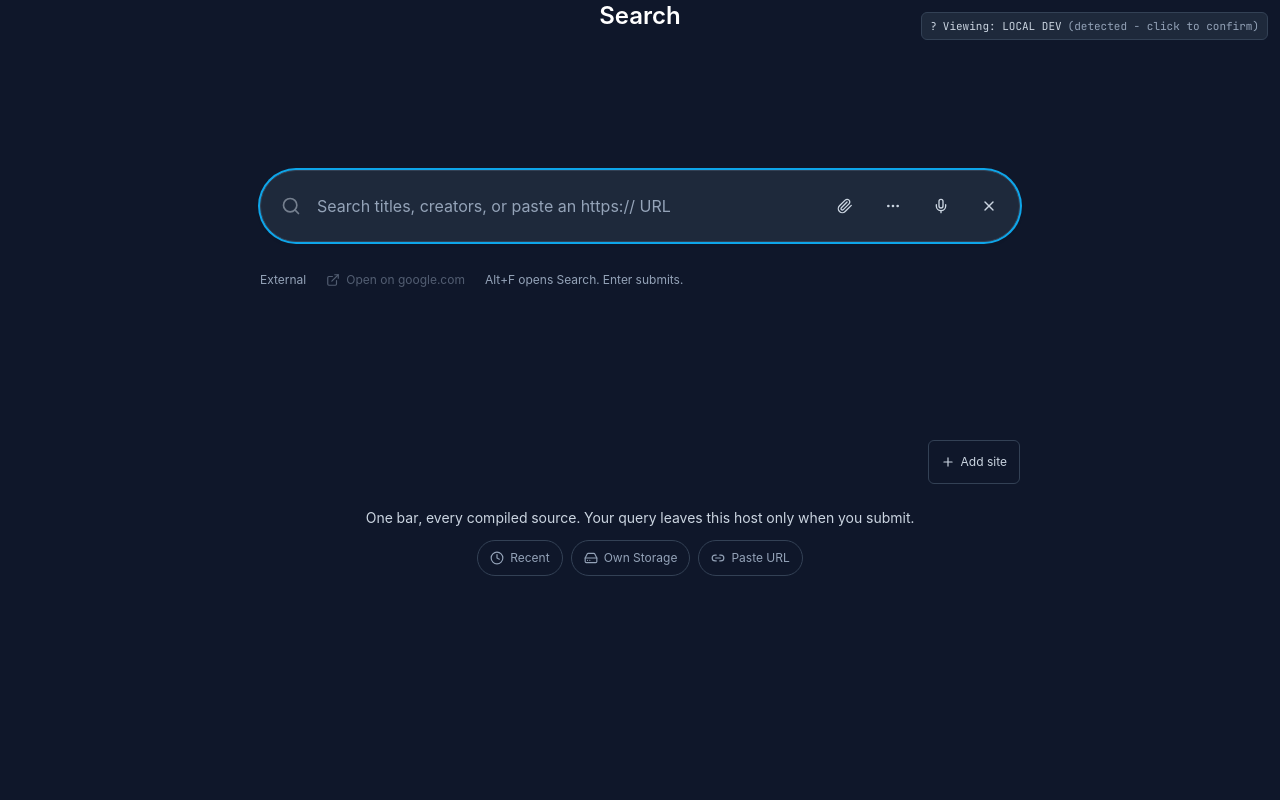
Scenario: F56-c v2 URL import + own credentials › validates both fields, then encrypts and POSTs to /api/fetch and wipes password
Type "https://example.org/dataset.zip" into the search field with test id "search-query" at point(568, 206), box [317,194,819,218]
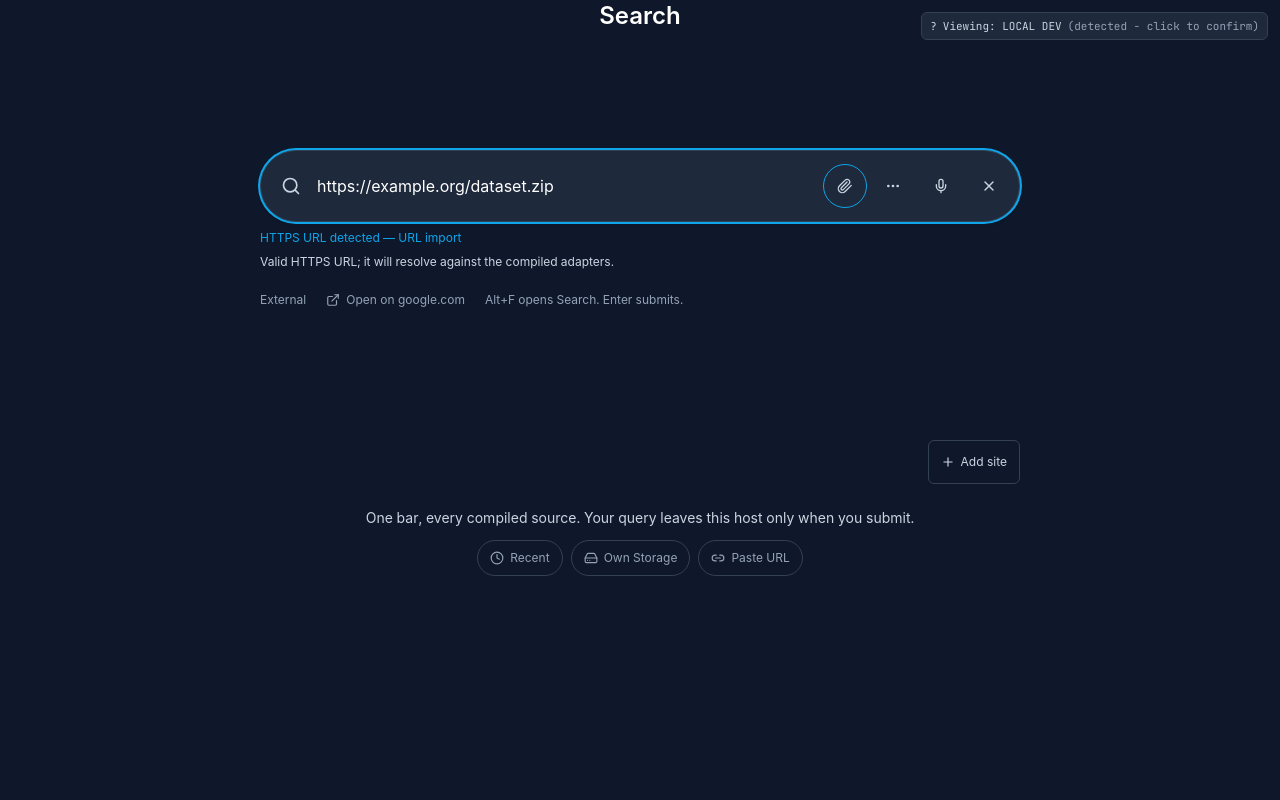
Click the button with test id "search-submit" at point(291, 186), box [269,164,313,208]
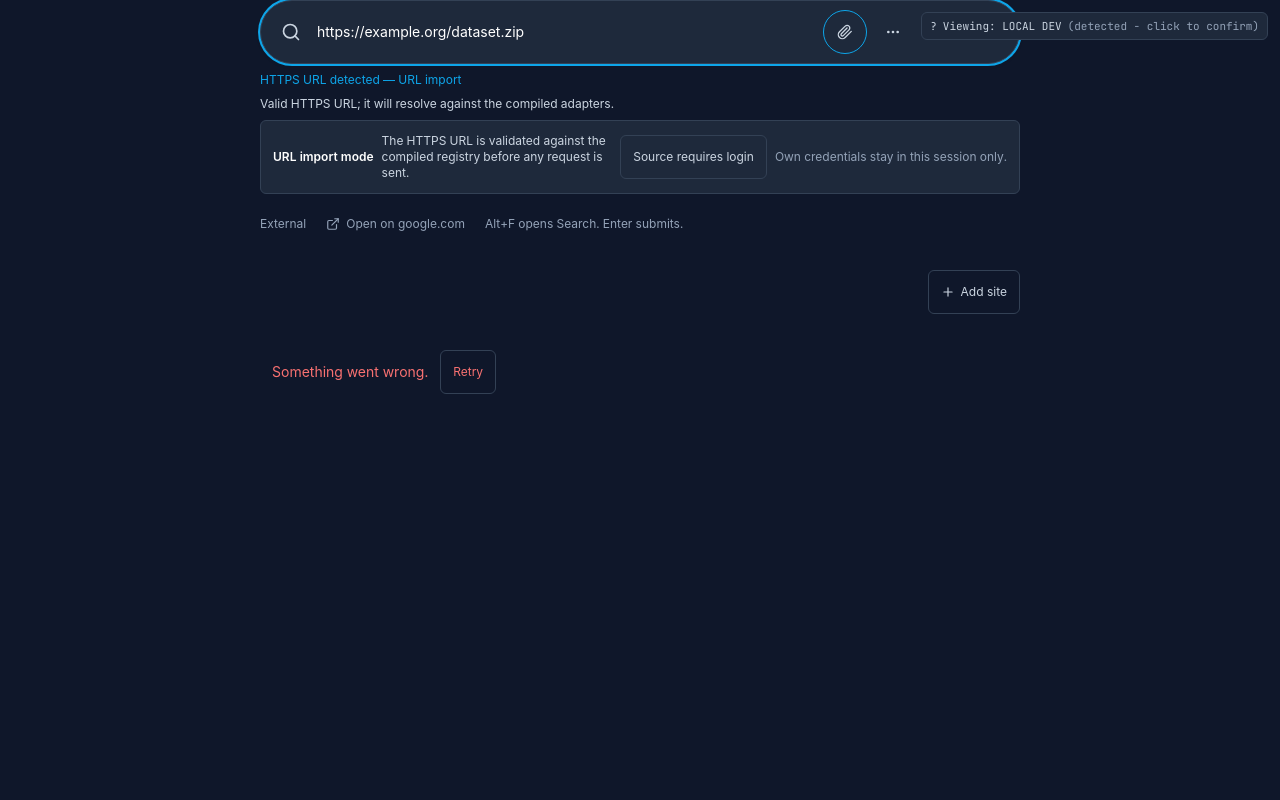
Click the button with test id "import-own-credential" at point(694, 157), box [620,135,767,179]
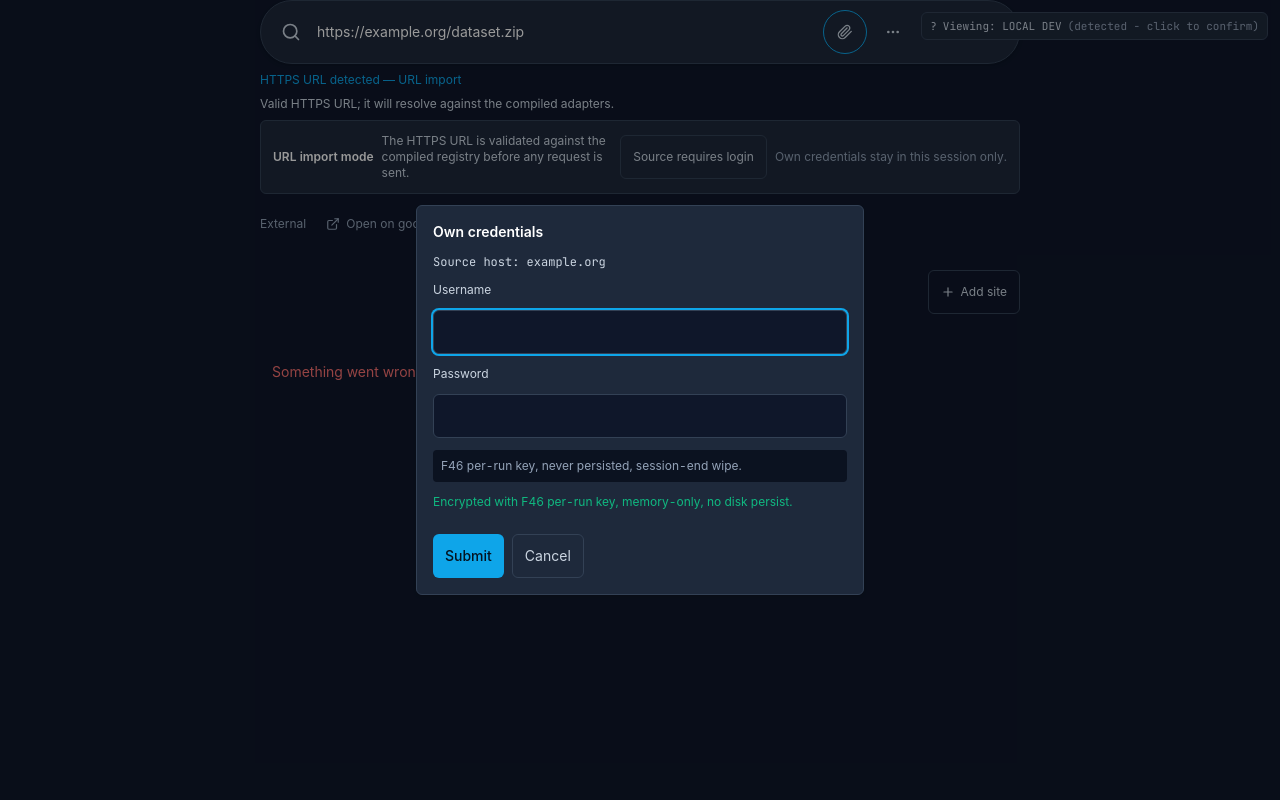
Click the button with test id "cred-submit" at point(468, 556), box [433,534,504,578]
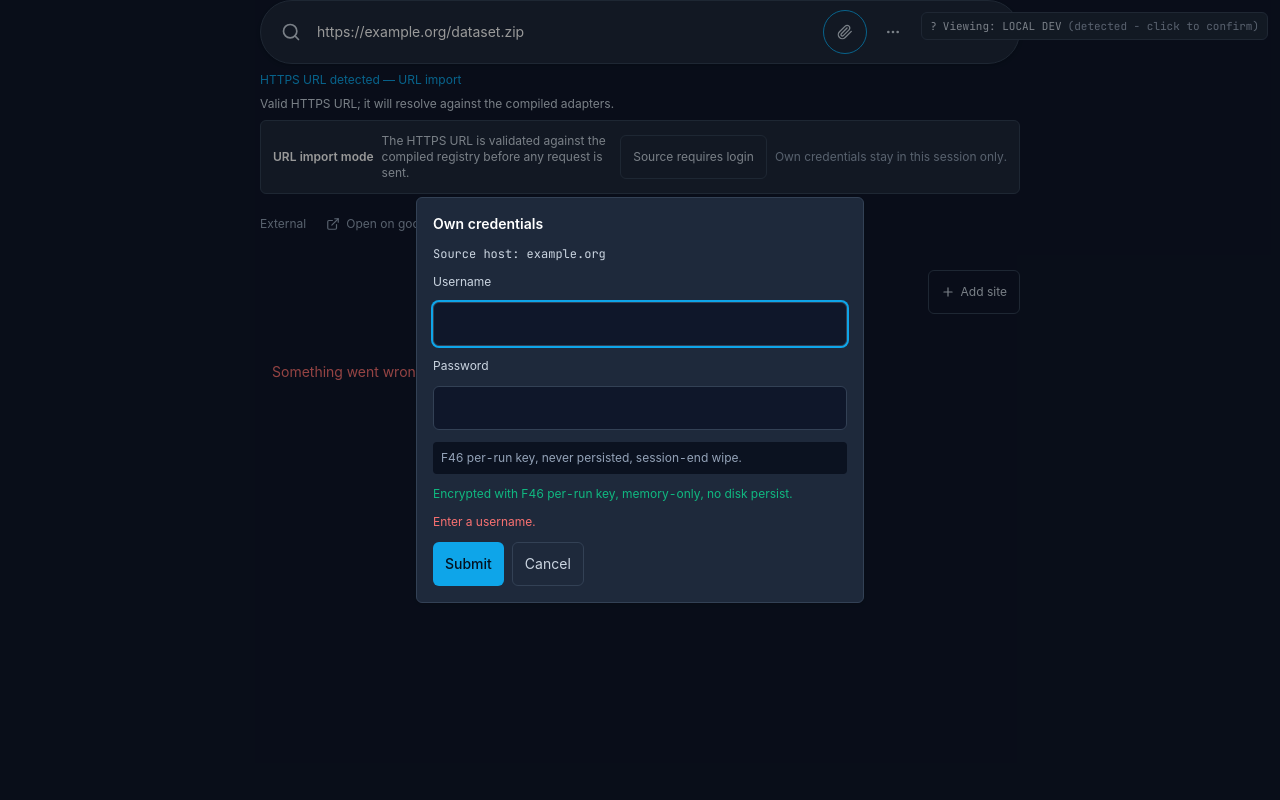
Expected: the message with test id "cred-error" reads "Enter a username.", [433,514,536,529]
Type "operator" into the field with test id "cred-user" at point(640, 324), box [433,302,847,346]
Click the button with test id "cred-submit" at point(468, 564), box [433,542,504,586]
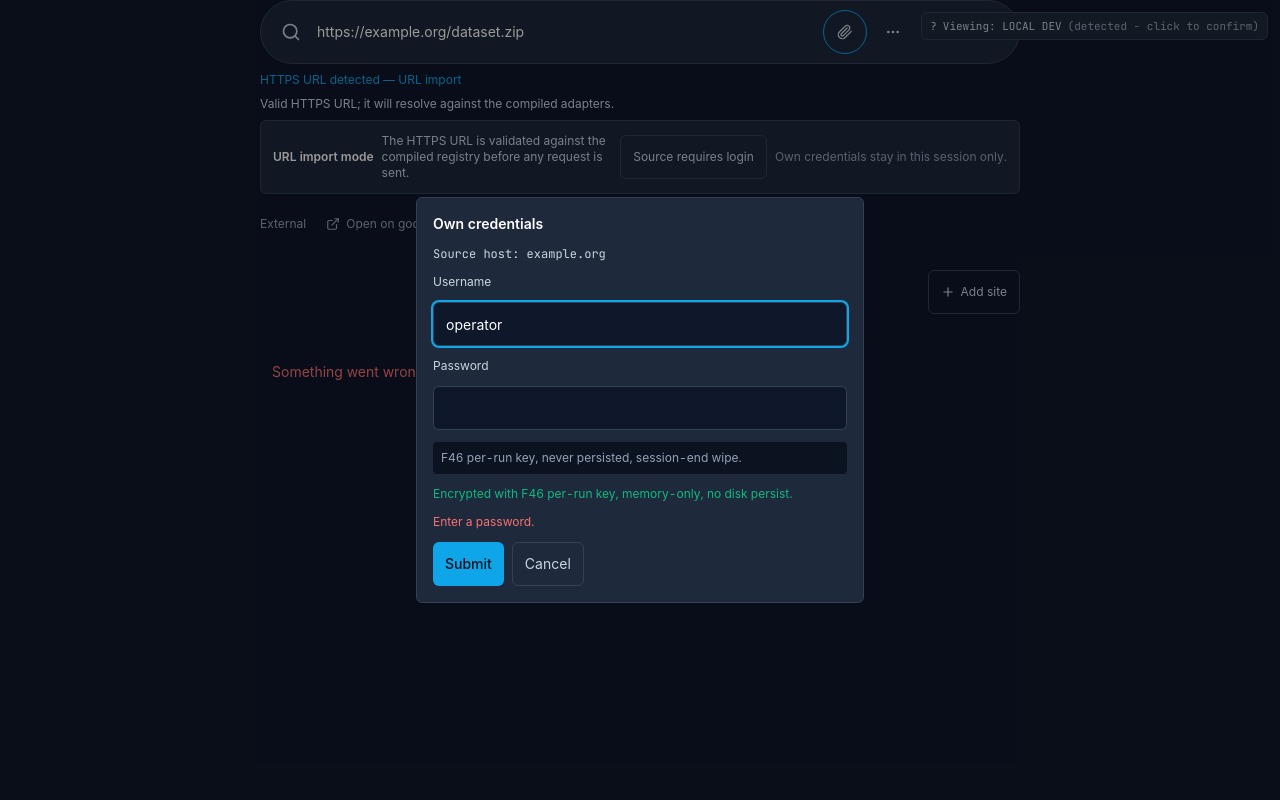
Expected: the message with test id "cred-error" reads "Enter a password.", [433,514,534,529]
Type "hunter2" into the password field with test id "cred-password" at point(640, 408), box [433,386,847,430]
Click the button with test id "cred-submit" at point(468, 564), box [433,542,504,586]
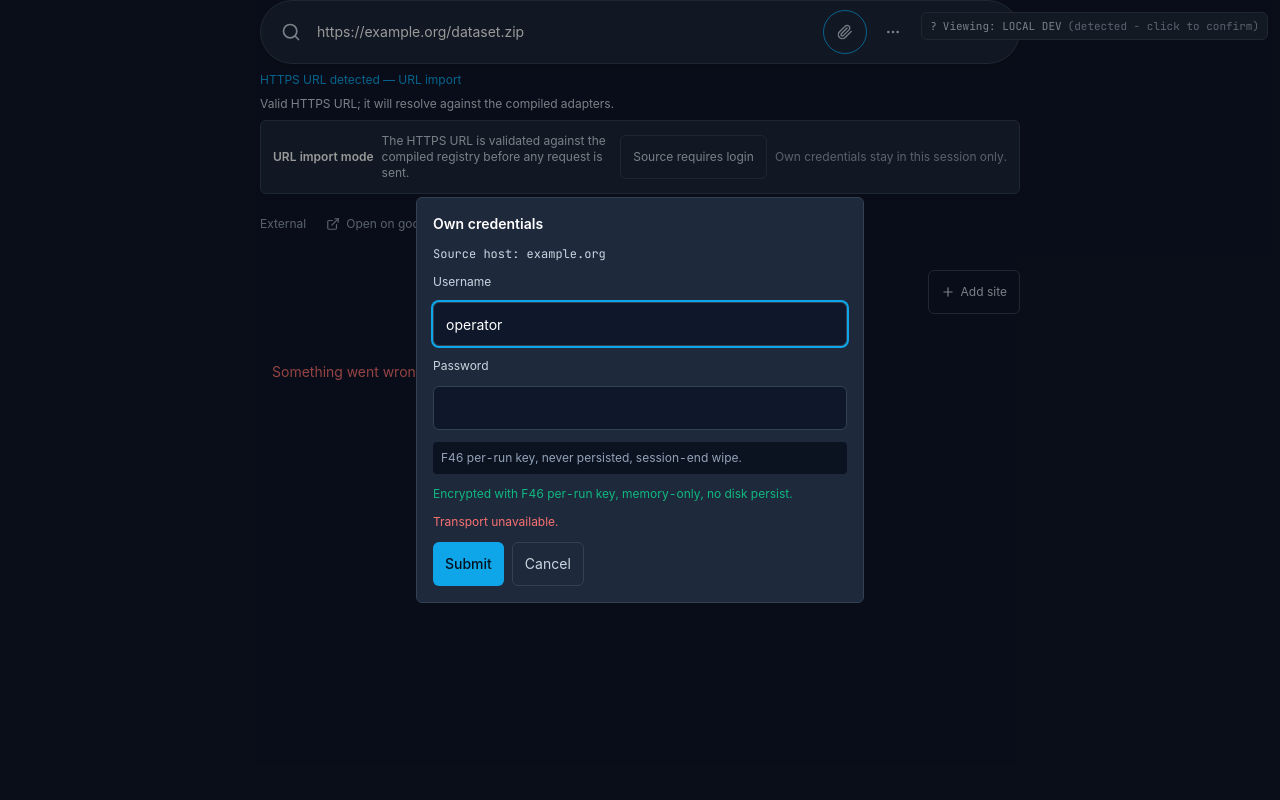
Expected: the message with test id "cred-error" reads "Transport unavailable.", [433,514,558,529]
Expected: the password field with test id "cred-password" is empty, [433,386,847,430]
